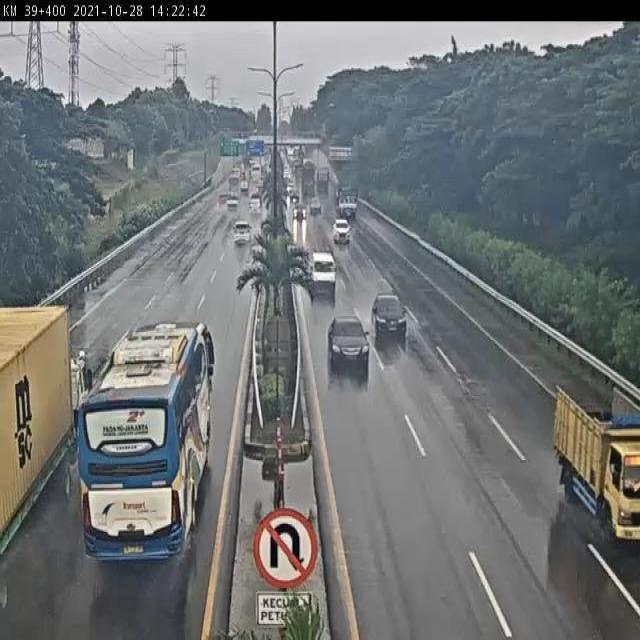bus-l-: (77, 318, 215, 566)
truck-s-: (553, 386, 640, 542)
truck-xl-: (0, 301, 88, 572)
